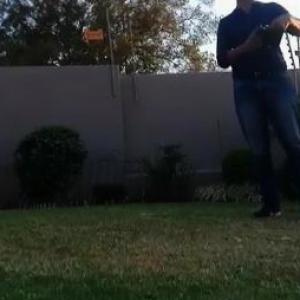follow: (210, 0, 299, 224)
